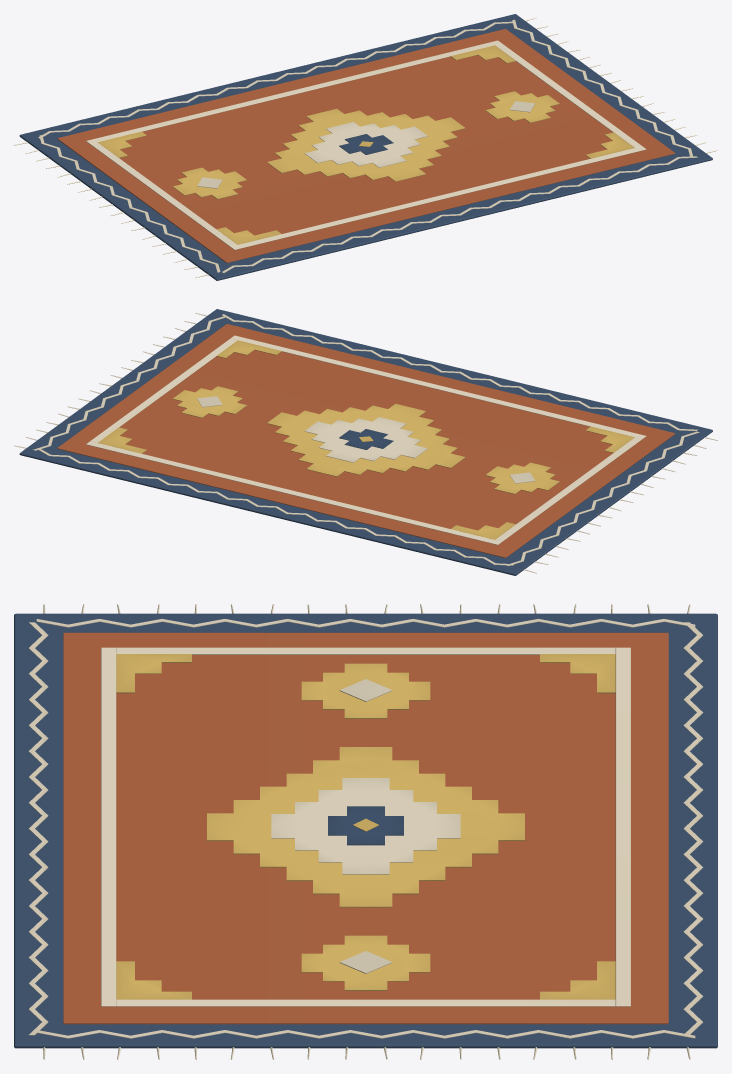
Rendered from rugPattern.glb.
The picture shows the model from 3 angles, top to bottom: view 1: azimuth 30°, elevation 25°; view 2: azimuth 150°, elevation 25°; view 3: azimuth 270°, elevation 25°; orthographic projection. The views are drawn at different scales.
Parts seen in each view (by area): view 1: rugPattern; view 2: rugPattern; view 3: rugPattern.
Part boxes in pixels (bbox=[...]): rugPattern: bbox=[14, 14, 717, 280]; rugPattern: bbox=[14, 309, 717, 575]; rugPattern: bbox=[14, 604, 717, 1059].
Bounding box in the file's own units: 2.84 × 0.024 × 1.86.
